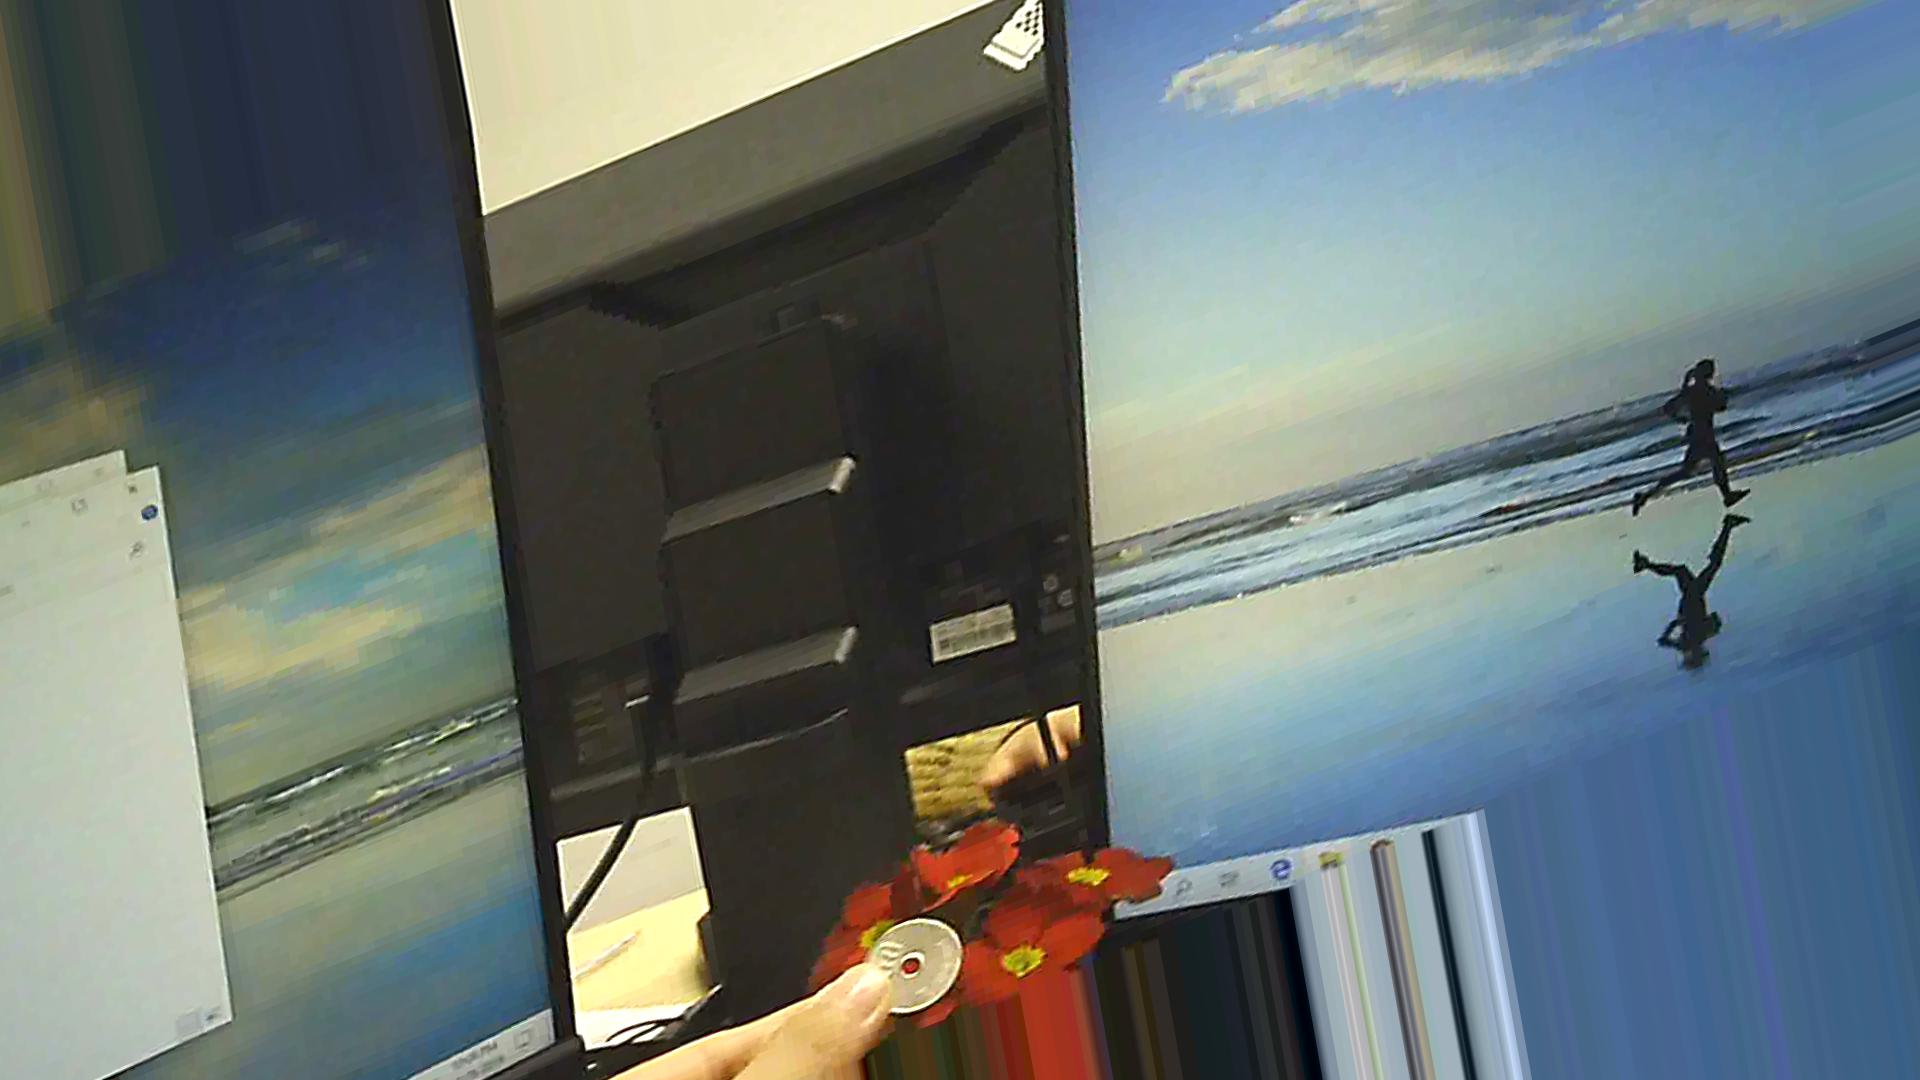50 Yen: (851, 915, 963, 1007)
